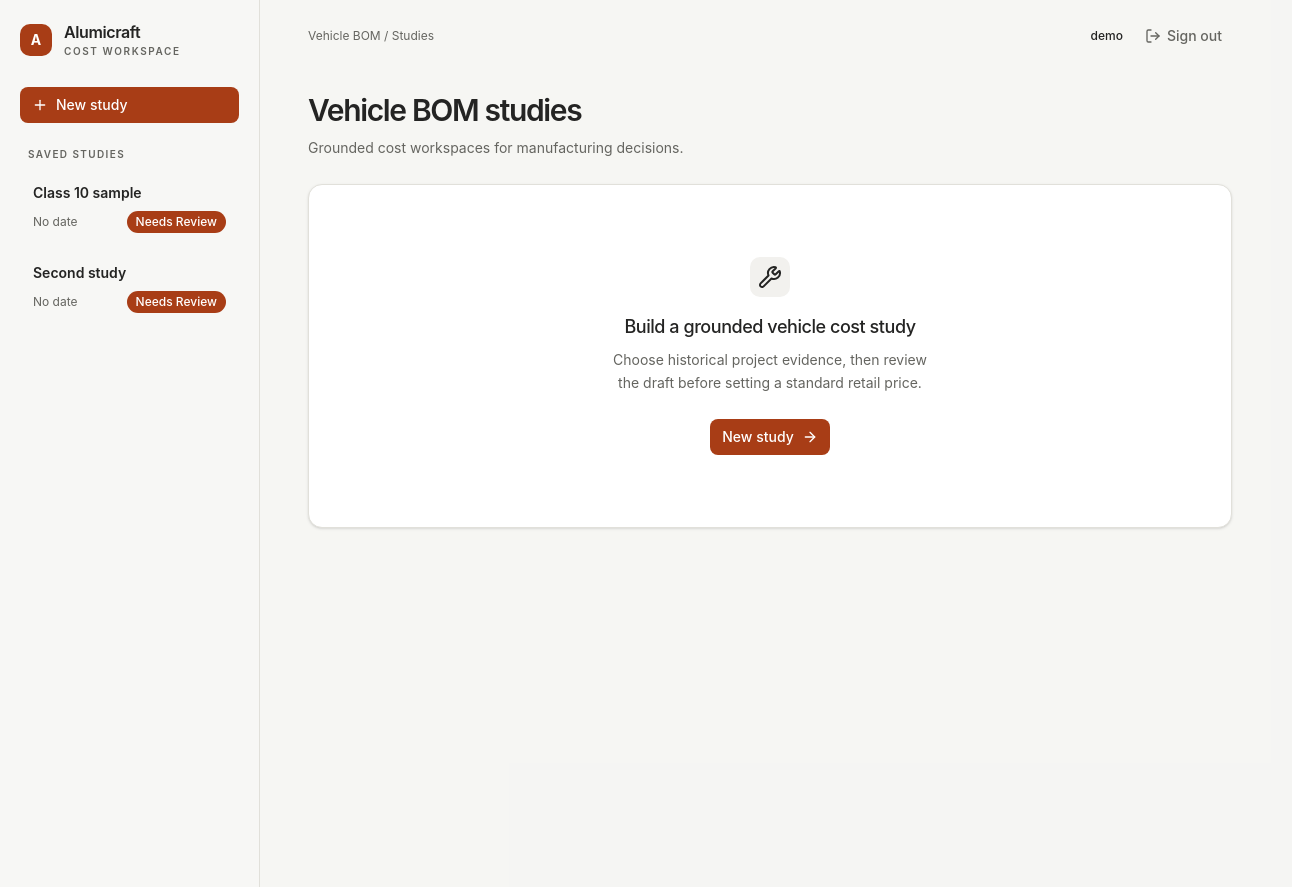
standalone review workflow › disables export while a different study is loading
Click the button "Class 10 sample No date Needs Review" at (130, 208), box [20,170,239,246]
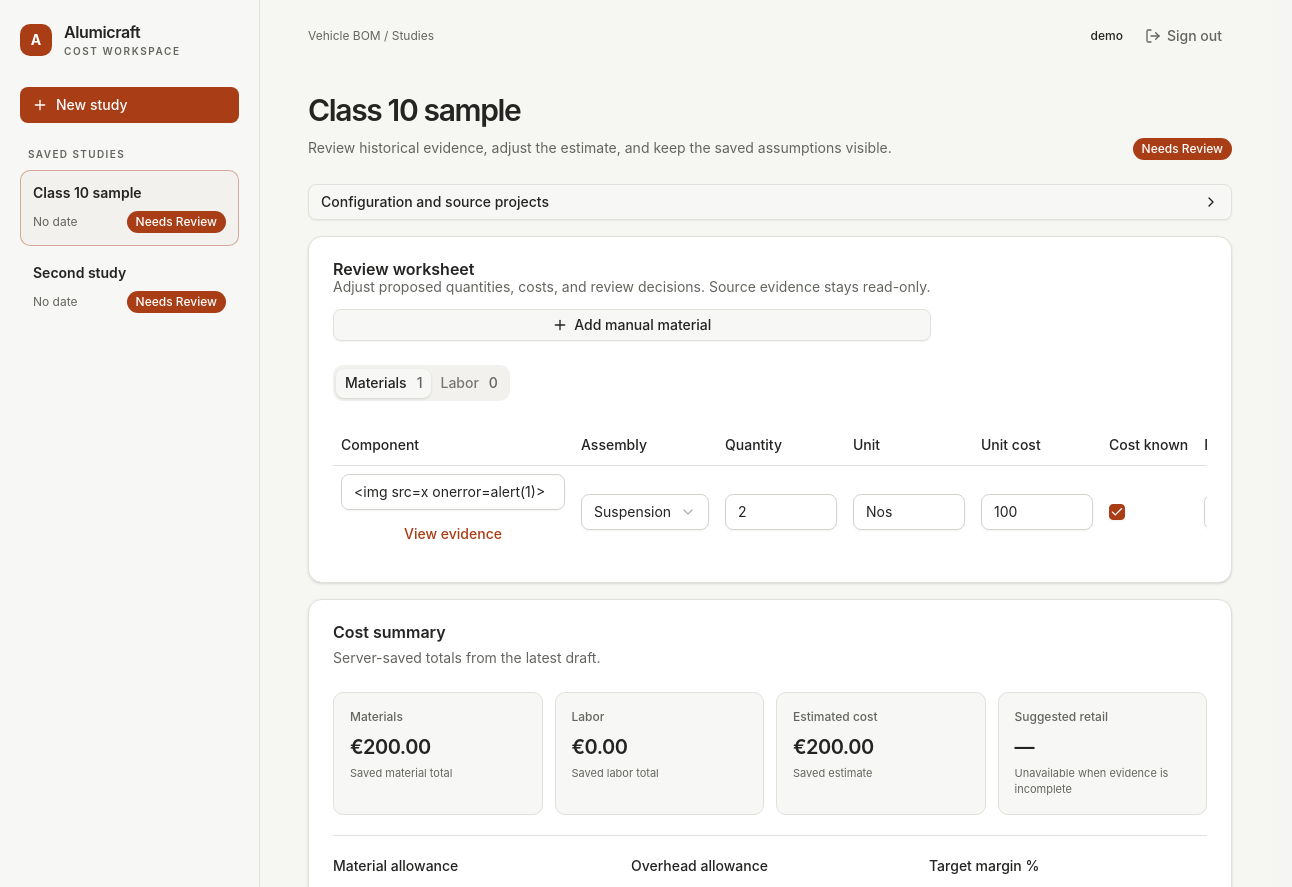
Result: the number field named "Quantity for Component 1" is shown at [725,494,837,530]
Click the button "Second study No date Needs Review" at (130, 288), box [20,250,239,326]
(page scrolled)
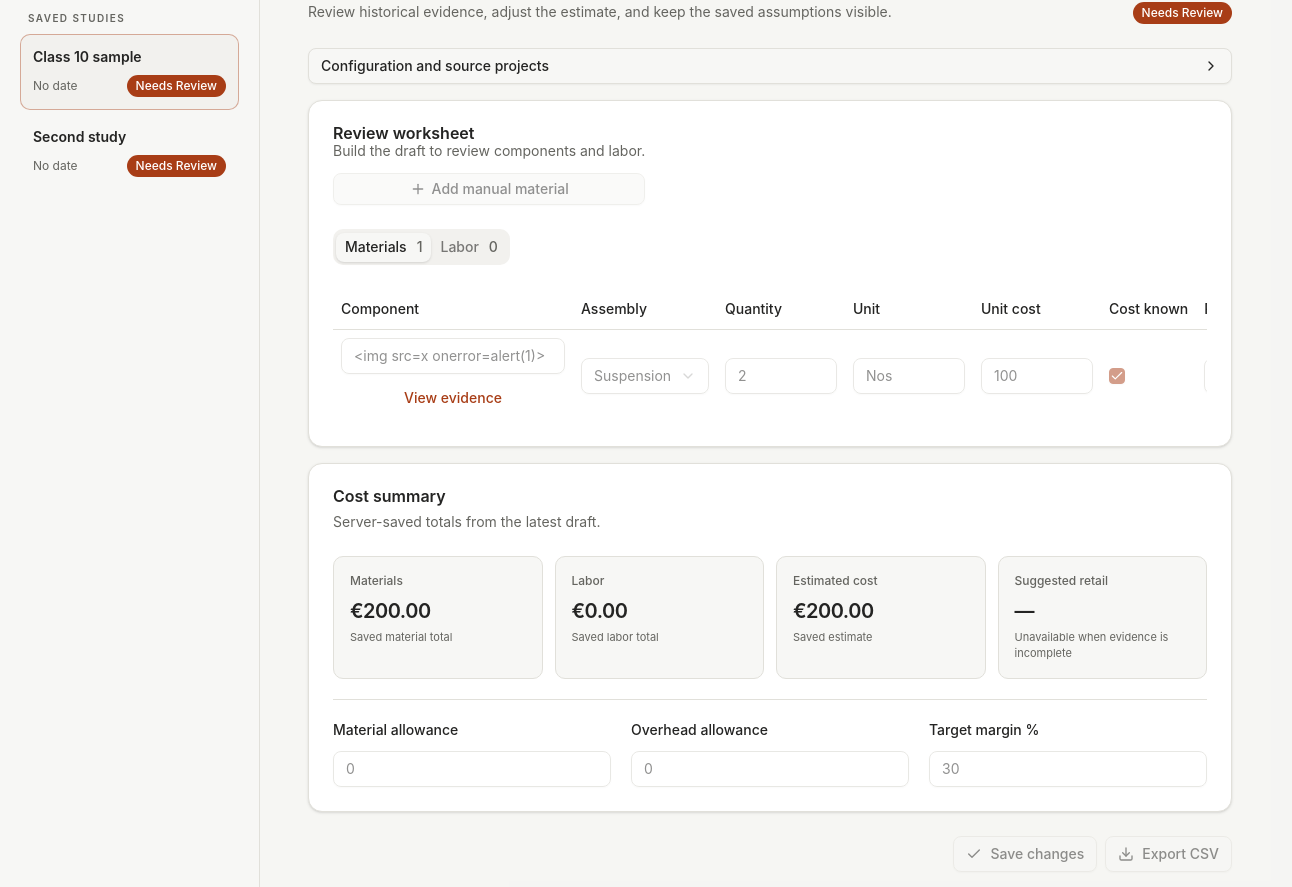
Result: the button "Export CSV" is disabled at [1105,836,1232,872]
